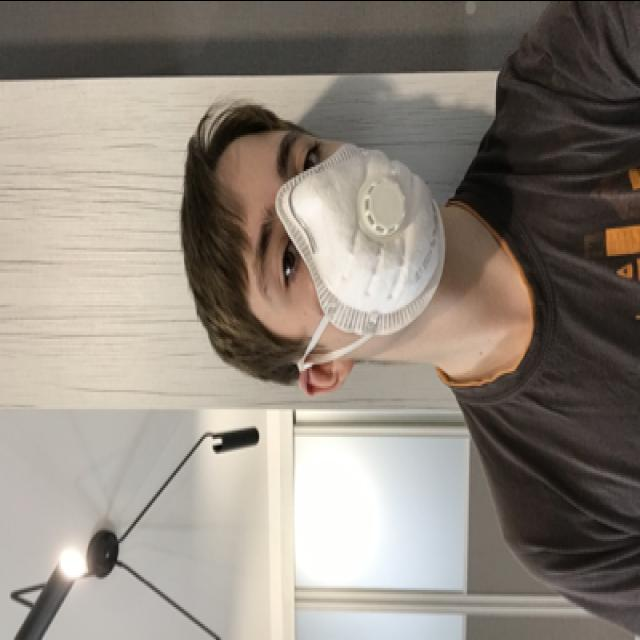mask: (245, 126, 443, 340)
